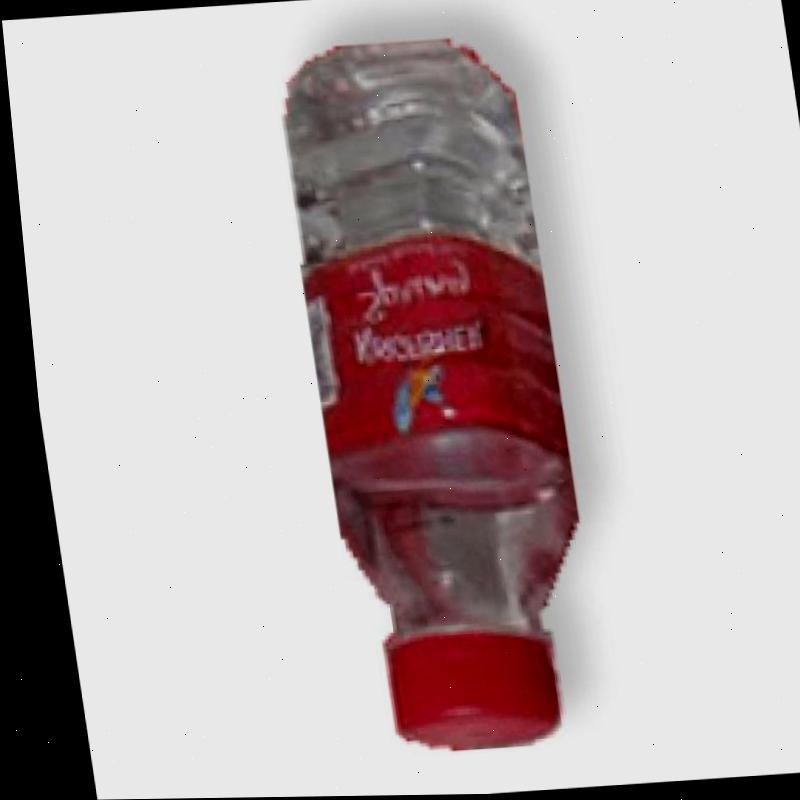botella: (262, 29, 594, 762)
